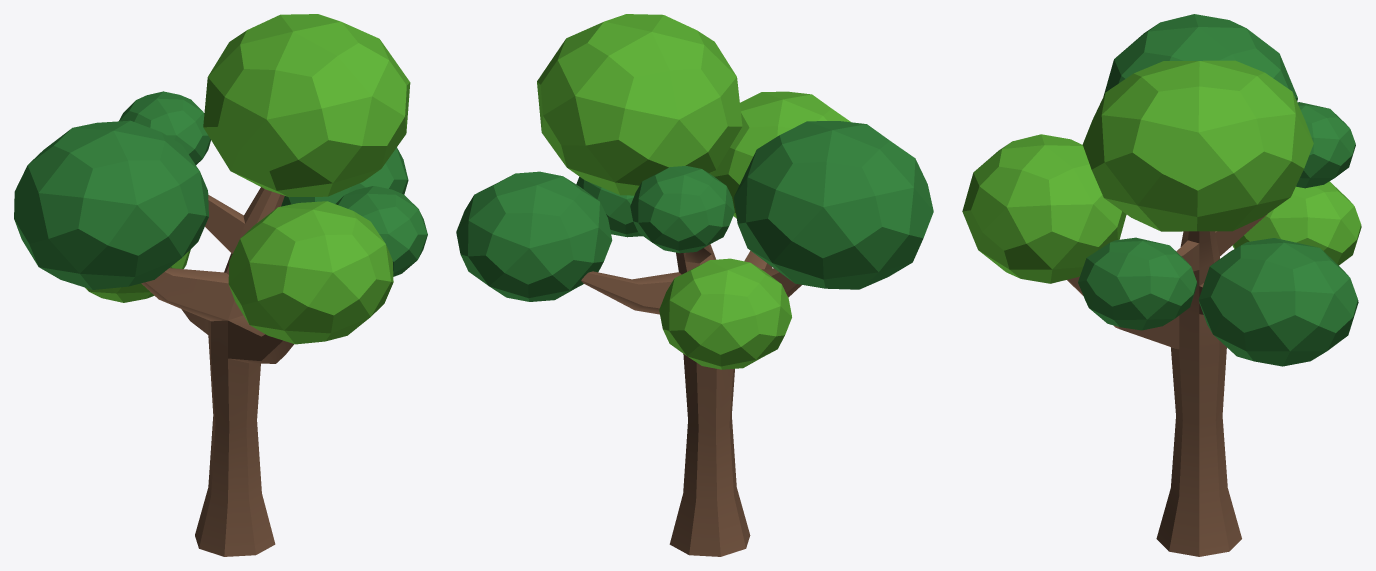
The model's file is obj_tree1_2.fbx.
3 views of the same model, side by side, from view 1: azimuth 30°, elevation 25°; view 2: azimuth 150°, elevation 25°; view 3: azimuth 270°, elevation 25° (orthographic). The views are drawn at different scales.
Visible parts, largest first — view 1: obj_tree1_2; view 2: obj_tree1_2; view 3: obj_tree1_2.
Boxes of the visible parts, x1,y1,x2,y2 form: obj_tree1_2: (14, 14, 427, 556); obj_tree1_2: (456, 14, 933, 556); obj_tree1_2: (962, 14, 1361, 556).
Bounding box in the file's own units: 4.82 × 5.52 × 3.94.
1 material, 1 textured.
